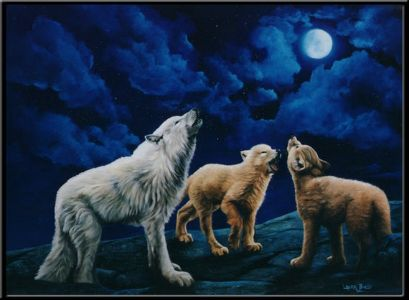wolf: (34, 106, 207, 285), (284, 132, 394, 271), (189, 144, 281, 254)
